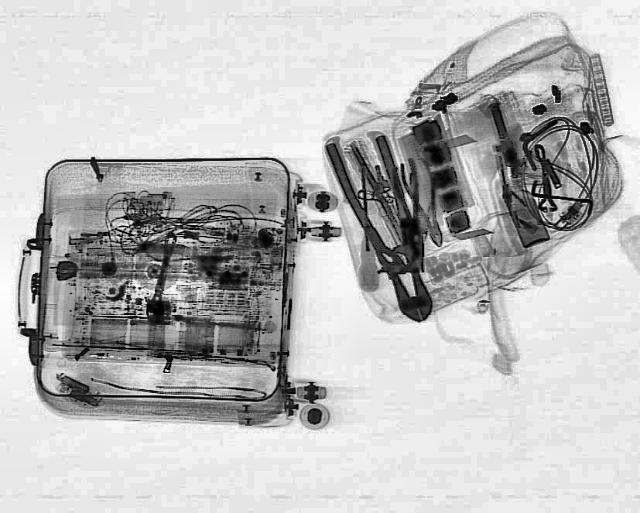Pliers: (322, 131, 453, 326), (370, 156, 440, 273), (396, 157, 456, 248)
